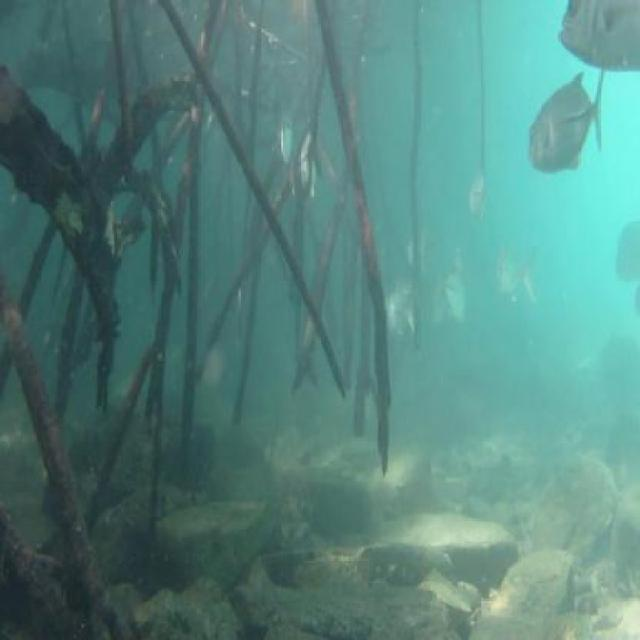Caranx_sexfasciatus_juvenile: (525, 70, 609, 184), (554, 2, 640, 82), (382, 271, 420, 349), (437, 262, 472, 335), (609, 209, 640, 291), (397, 221, 437, 281), (297, 125, 325, 206), (266, 90, 294, 168), (492, 246, 523, 314), (514, 251, 541, 315), (464, 174, 496, 223)
